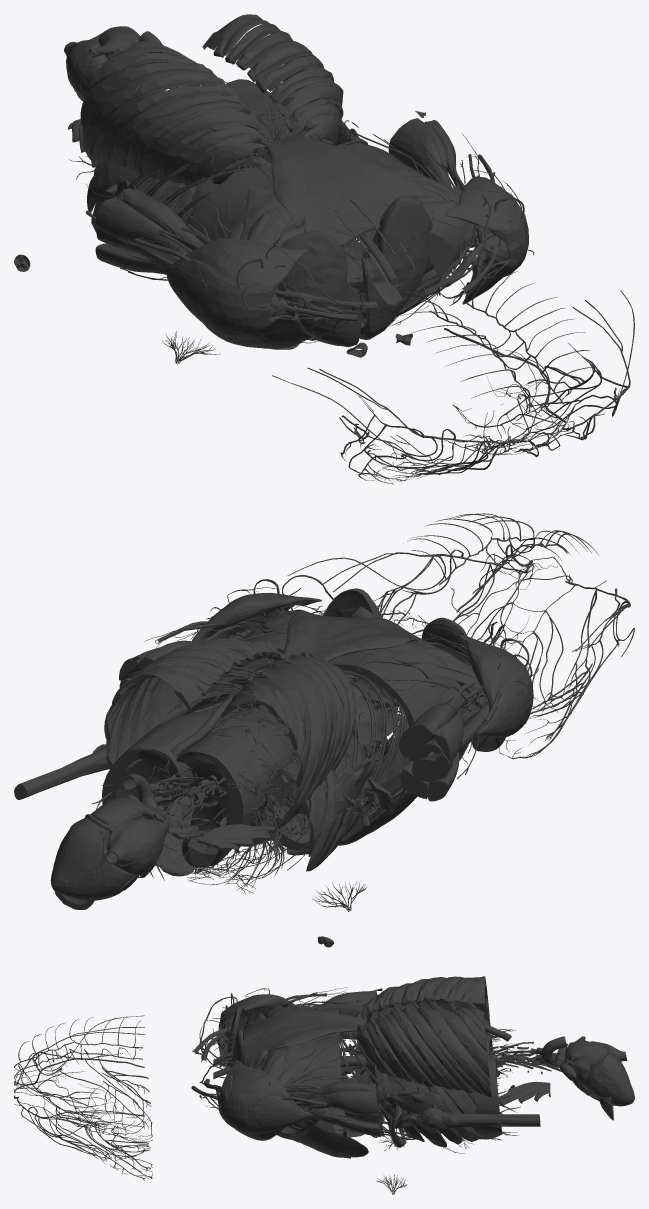
The model's file is sharedassets111.glb.
The picture shows the model from 3 angles, top to bottom: view 1: azimuth 30°, elevation 25°; view 2: azimuth 150°, elevation 25°; view 3: azimuth 270°, elevation 25°; orthographic projection. The views are drawn at different scales.
Visible parts, largest first — view 1: 1423_Peritoneum__300016-05, 1003_Latissimus dorsi, R__1000235-05, 0884_External intercostal, R__1000150-04, 0607_Trapezius, L__1000436-01, 1038_External intercostal, R__1000150-05, 0844_Trapezius, R__1000437-04, 0784_Trapezius, L__1000436-04, 0903_Triceps _triceps brachii_, long head, L_, 0943_Triceps _triceps brachii_, lateral head,, 0797_Deltoid, middle head, R__100085-01, 1061_External intercostal, R__1000150-03, 0707_External intercostal, R__1000150-01 (+41 smaller); view 2: 1817_Lung, R_Thorax_XS_05_001396-05, 0178_Lung, L_Thorax_XS_05_001403-05, 1003_Latissimus dorsi, R__1000235-05, 1038_External intercostal, R__1000150-05, 1423_Peritoneum__300016-05, 1043_Serratus anterior, R__1000377-05, 1812_Right ventricle_back portion_000692-05, 0884_External intercostal, R__1000150-04, 1093_External intercostal, L__1000149-05, 0214_Breast, R_Female_001474-05, 0984_Deltoid, posterior head, L__100086-04, 0944_Deltoid, middle head, R__100085-04 (+37 smaller); view 3: 1018_Latissimus dorsi, L__1000234-05, 1093_External intercostal, L__1000149-05, 0824_External intercostal, L__1000149-04, 1108_Serratus anterior, L__1000376-05, 0979_Deltoid, middle head, L__100084-04, 1814_Left ventricle_back portion_000688-05, 0178_Lung, L_Thorax_XS_05_001403-05, 0004_Left atrium__000706-04, 0914_Pectoralis major, L__1000309-04, 0908_Triceps _triceps brachii_, lateral head,, 0809_Serratus anterior, L__1000376-04, 0219_Breast, L_Female_001475-05 (+39 smaller).
Part boxes in pixels (box(x1,y1,x2,y2)): 1423_Peritoneum__300016-05: box(278, 196, 432, 347); 1003_Latissimus dorsi, R__1000235-05: box(187, 166, 275, 244); 0884_External intercostal, R__1000150-04: box(117, 68, 235, 196); 0607_Trapezius, L__1000436-01: box(362, 198, 478, 279); 1038_External intercostal, R__1000150-05: box(82, 41, 194, 164); 0844_Trapezius, R__1000437-04: box(271, 160, 341, 205); 0784_Trapezius, L__1000436-04: box(312, 150, 401, 188); 0903_Triceps _triceps brachii_, long head, L_: box(388, 118, 446, 173); 0943_Triceps _triceps brachii_, lateral head,: box(95, 197, 161, 243); 0797_Deltoid, middle head, R__100085-01: box(233, 285, 286, 337); 1061_External intercostal, R__1000150-03: box(158, 93, 249, 194); 0707_External intercostal, R__1000150-01: box(203, 118, 266, 177); 1817_Lung, R_Thorax_XS_05_001396-05: box(176, 727, 276, 867); 0178_Lung, L_Thorax_XS_05_001403-05: box(102, 722, 197, 876); 1003_Latissimus dorsi, R__1000235-05: box(329, 644, 450, 726); 1038_External intercostal, R__1000150-05: box(224, 677, 334, 833); 1423_Peritoneum__300016-05: box(323, 588, 468, 736); 1043_Serratus anterior, R__1000377-05: box(300, 766, 346, 871); 1812_Right ventricle_back portion_000692-05: box(54, 835, 133, 900); 0884_External intercostal, R__1000150-04: box(263, 658, 350, 802); 1093_External intercostal, L__1000149-05: box(106, 652, 223, 798); 0214_Breast, R_Female_001474-05: box(270, 757, 373, 849); 0984_Deltoid, posterior head, L__100086-04: box(196, 594, 281, 642); 0944_Deltoid, middle head, R__100085-04: box(492, 673, 526, 739); 1018_Latissimus dorsi, L__1000234-05: box(293, 1032, 341, 1101); 1093_External intercostal, L__1000149-05: box(438, 1007, 490, 1094); 0824_External intercostal, L__1000149-04: box(399, 1008, 442, 1087); 1108_Serratus anterior, L__1000376-05: box(428, 1085, 478, 1147); 0979_Deltoid, middle head, L__100084-04: box(255, 1093, 297, 1133); 1814_Left ventricle_back portion_000688-05: box(601, 1052, 634, 1106); 0178_Lung, L_Thorax_XS_05_001403-05: box(452, 1055, 502, 1139); 0004_Left atrium__000706-04: box(565, 1039, 600, 1084); 0914_Pectoralis major, L__1000309-04: box(289, 1110, 331, 1155); 0908_Triceps _triceps brachii_, lateral head,: box(330, 1091, 377, 1114); 0809_Serratus anterior, L__1000376-04: box(388, 1076, 433, 1143); 0219_Breast, L_Female_001475-05: box(396, 1090, 442, 1133).
Size of the model in its own units: 0.1995 by 0.1457 by 0.469.
1 material, 1 textured.
